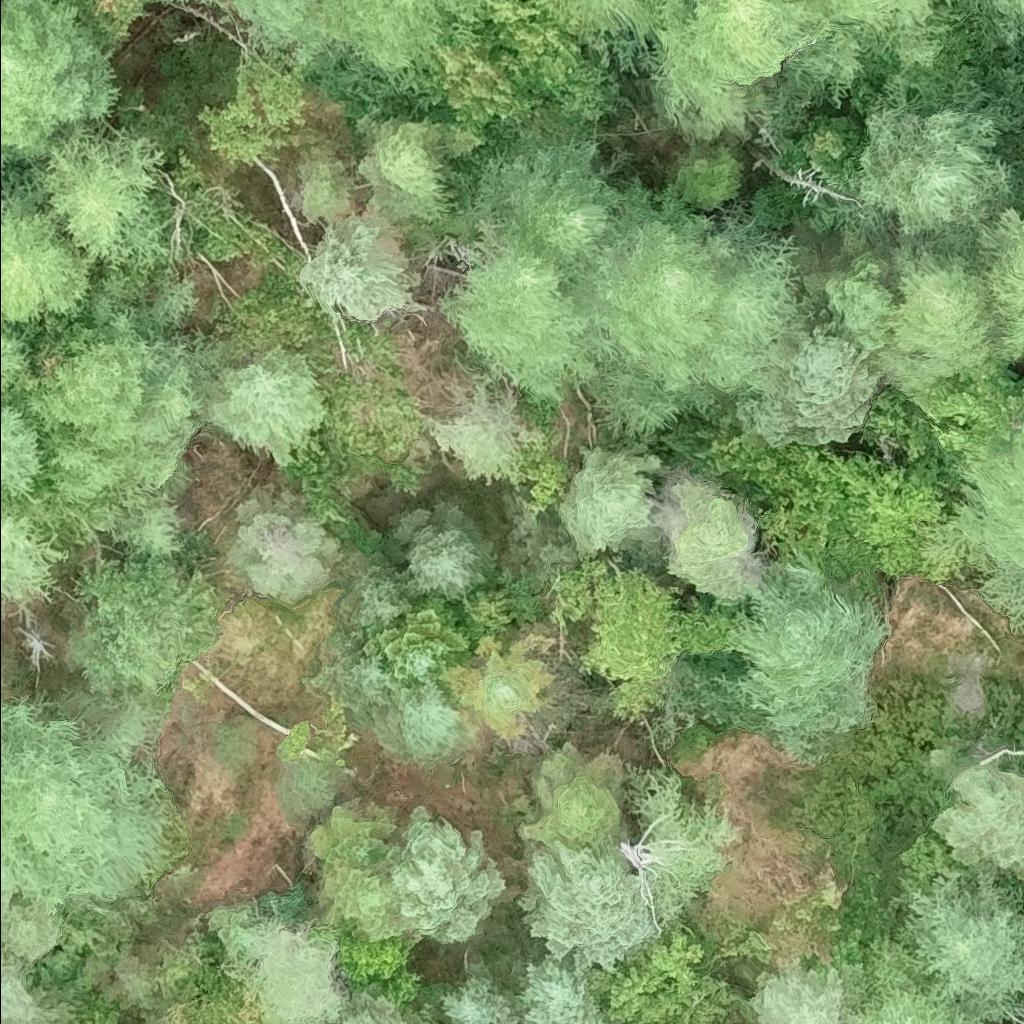crown: (574, 216, 800, 437), (698, 429, 952, 579), (0, 698, 169, 920), (19, 321, 190, 509), (441, 219, 608, 405), (715, 564, 890, 734), (651, 0, 854, 138), (859, 107, 1016, 250), (579, 575, 729, 715), (933, 410, 1023, 640), (475, 137, 622, 277), (745, 308, 886, 449), (878, 234, 998, 393), (0, 0, 116, 163), (629, 764, 744, 928), (519, 840, 655, 978), (77, 560, 218, 689), (42, 130, 168, 273), (907, 874, 1023, 1022), (209, 901, 349, 1023), (312, 805, 421, 942), (392, 815, 507, 944), (0, 170, 93, 326), (439, 0, 548, 130), (302, 219, 436, 324), (209, 346, 325, 467), (315, 371, 425, 495), (357, 118, 487, 222), (606, 926, 738, 1023), (422, 384, 542, 490), (199, 57, 306, 169), (561, 442, 662, 559), (518, 752, 629, 858), (228, 499, 341, 603), (666, 482, 763, 598), (815, 0, 974, 67), (392, 500, 496, 599), (306, 628, 403, 732), (857, 942, 981, 1023), (307, 918, 416, 1009), (365, 609, 475, 698), (766, 853, 841, 976), (339, 0, 454, 80), (934, 767, 1023, 866), (376, 680, 477, 763), (971, 207, 1023, 366), (234, 0, 353, 69), (825, 254, 897, 357), (752, 955, 860, 1023), (90, 493, 182, 569), (0, 514, 67, 608), (0, 398, 50, 517), (544, 0, 664, 49), (0, 955, 83, 1023), (529, 0, 580, 93), (518, 433, 578, 512), (78, 0, 158, 51), (0, 901, 61, 961), (357, 564, 411, 631), (0, 322, 38, 403), (965, 0, 1023, 42), (331, 991, 404, 1023), (0, 841, 19, 905), (451, 0, 488, 20), (169, 0, 235, 10), (1007, 995, 1023, 1023), (238, 1022, 246, 1023)
